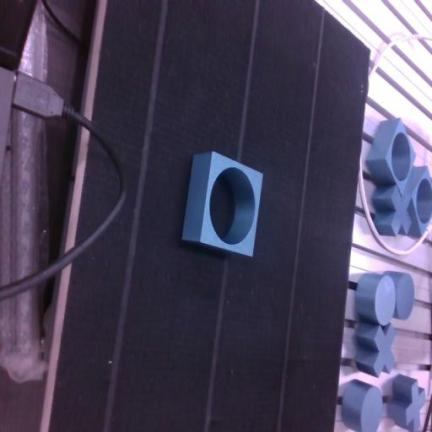square: (182, 151, 262, 256)
